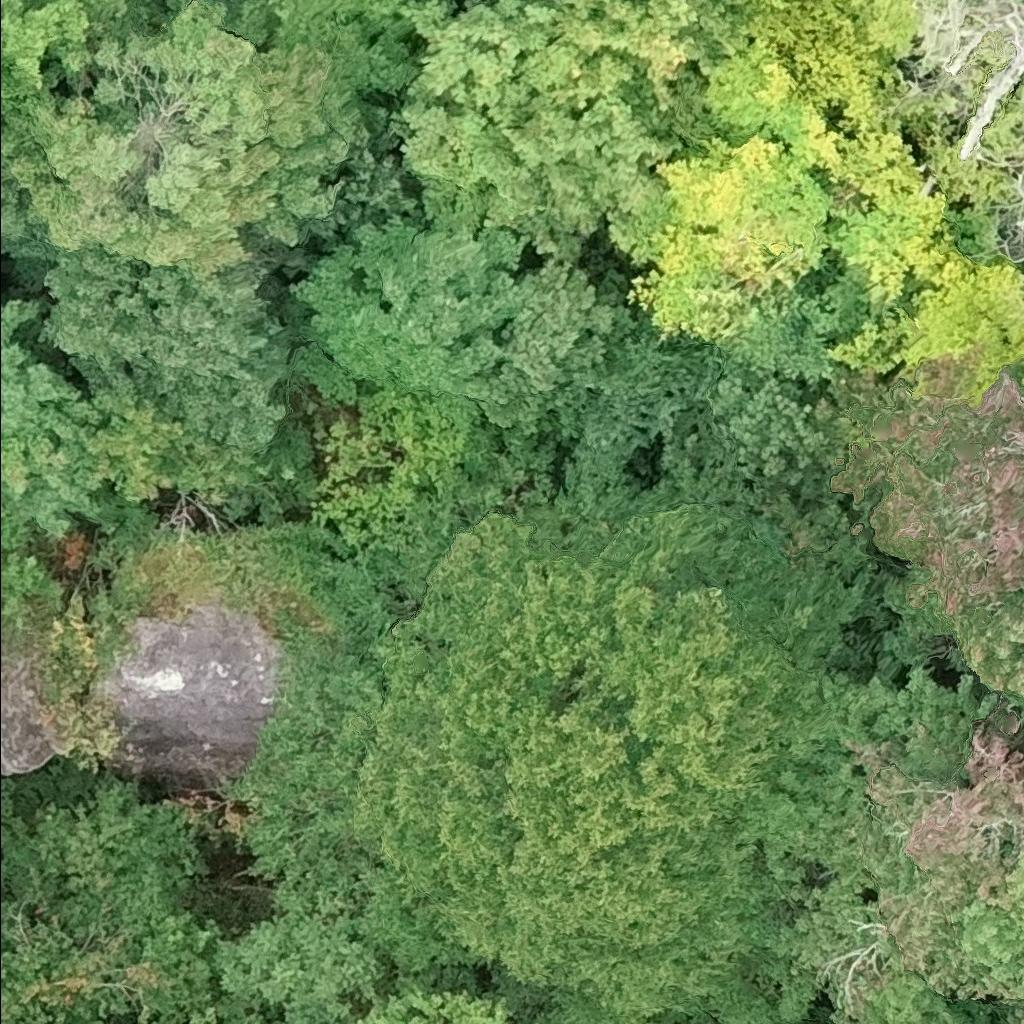crown: (329, 456, 875, 1023), (606, 0, 1023, 400), (0, 0, 363, 293), (766, 663, 1023, 1023), (389, 0, 739, 263), (0, 777, 217, 1023), (34, 244, 292, 450), (287, 208, 524, 424), (834, 357, 1023, 627), (481, 251, 650, 439), (0, 293, 105, 538), (947, 588, 1023, 727), (352, 985, 510, 1023), (0, 157, 36, 254), (999, 165, 1023, 262), (132, 1000, 227, 1023), (228, 1000, 285, 1023)
